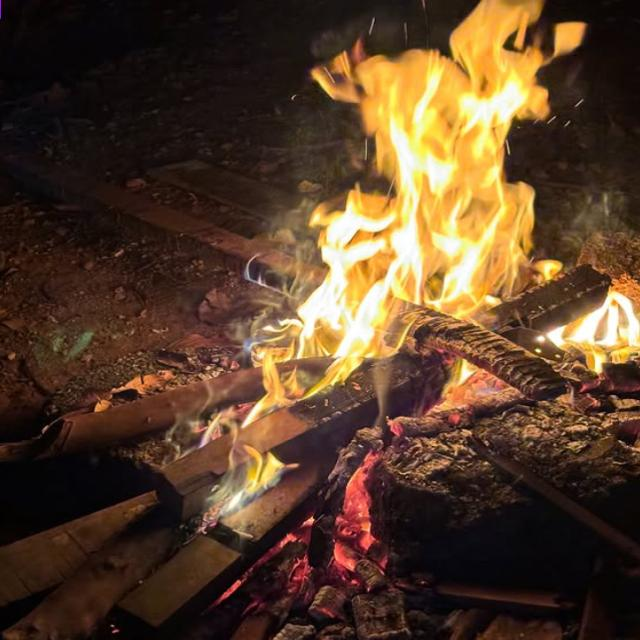fire: (241, 290, 640, 431), (311, 0, 584, 178), (309, 177, 563, 315), (212, 433, 397, 620), (189, 406, 289, 529)
